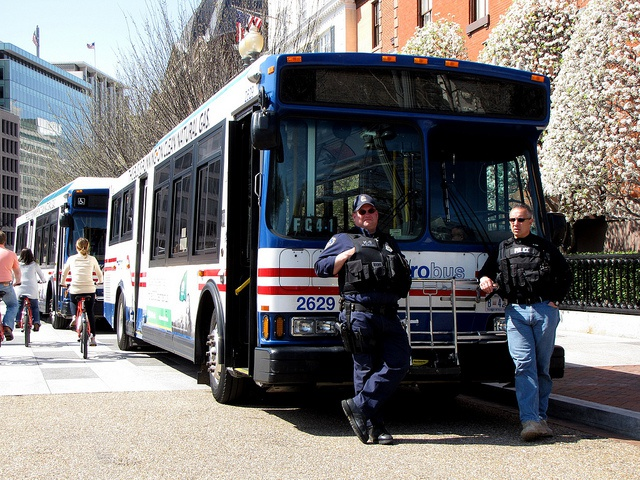non-vehicle: (74, 294, 91, 360), (19, 294, 32, 346), (0, 290, 6, 347)
